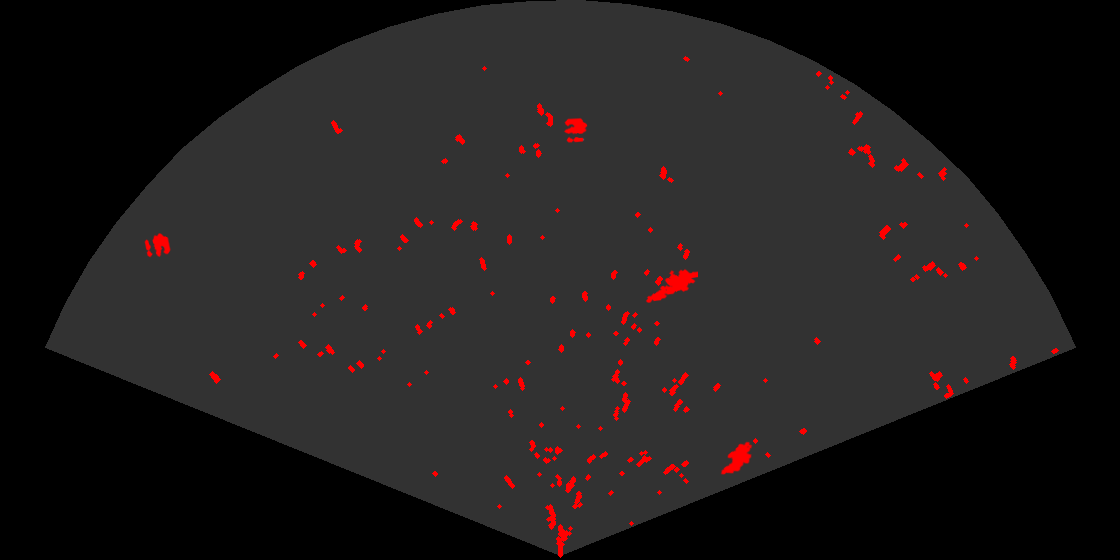AUV: (719, 440, 754, 476)
ball: (143, 232, 172, 259), (562, 116, 589, 144)
frogman: (644, 267, 698, 304)
